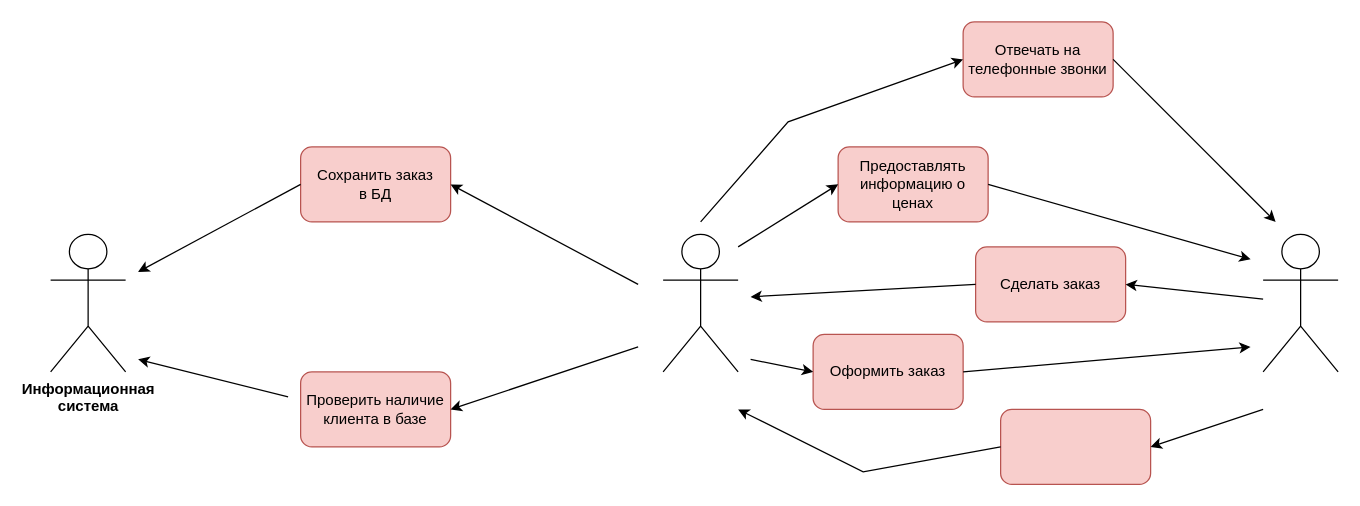
The diagram is 1360 pixels wide and 506 high, and some of its shapes have lost their labels. The box of each missing label's shape, as (x1, y1, x2, y2) in pixels:
Клиент: (1262, 233, 1338, 372)
Отменить заказ: (999, 408, 1151, 484)
Сотрудник: (662, 233, 738, 372)
